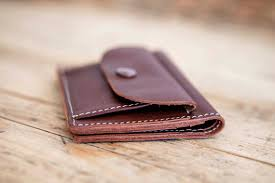monedero: (59, 47, 225, 143)
